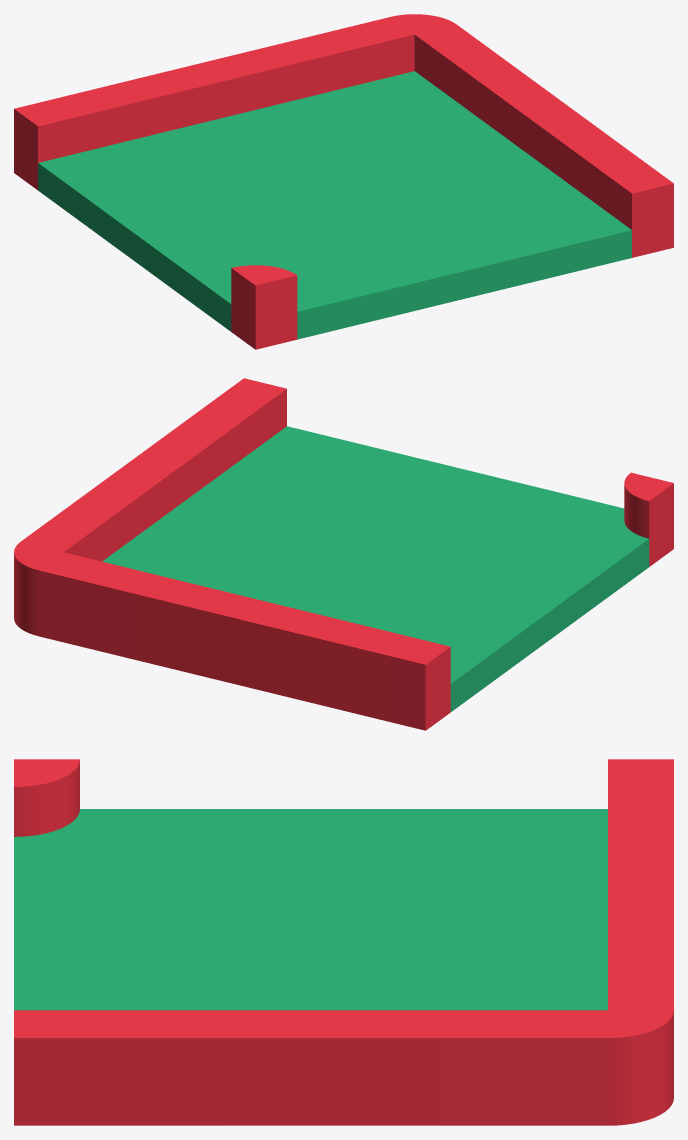
File: squareCornerA.obj
3 views of the same model, one above another, from view 1: azimuth 30°, elevation 25°; view 2: azimuth 150°, elevation 25°; view 3: azimuth 270°, elevation 25° (orthographic). The views are drawn at different scales.
Parts seen in each view (by area): view 1: squareCornerA; view 2: squareCornerA; view 3: squareCornerA.
Boxes of the visible parts, x1,y1,x2,y2 form: squareCornerA: (14, 14, 673, 349); squareCornerA: (14, 378, 673, 730); squareCornerA: (14, 759, 673, 1125).
Bounding box in the file's own units: 0.9999 × 0.1467 × 0.9999.
